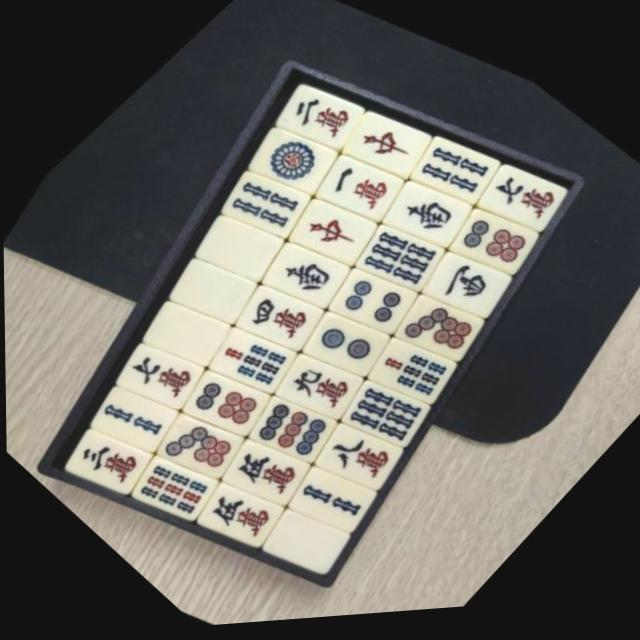hdr: (337, 90, 431, 188), (286, 180, 378, 276)
hdw: (191, 192, 287, 291), (167, 236, 261, 334), (258, 493, 352, 591), (140, 281, 231, 376)
hws: (257, 221, 352, 320), (379, 163, 470, 259)
hww: (413, 231, 514, 337)
sb2: (85, 362, 184, 466), (283, 450, 377, 548)
sb4: (403, 115, 501, 218), (217, 146, 315, 248)
sb6: (334, 362, 433, 465), (348, 203, 445, 305)
sb7: (204, 306, 301, 408), (361, 319, 458, 420)
sb9: (129, 439, 221, 535)
sc1: (311, 132, 407, 232)
sc2: (273, 59, 368, 159)
sc3: (61, 408, 156, 508)
sc4: (232, 264, 326, 363)
sc5: (216, 418, 315, 522), (190, 462, 289, 565)
sc7: (112, 320, 209, 422), (470, 145, 567, 246)
sc8: (306, 404, 405, 507)
sc9: (268, 333, 366, 436)
sd1: (244, 104, 341, 205)
sd2: (298, 294, 390, 390)
sd4: (322, 247, 418, 348)
sd6: (443, 189, 539, 289), (180, 352, 271, 447)
sd7: (152, 391, 251, 495), (388, 274, 487, 378)
sd9: (241, 375, 342, 481)
